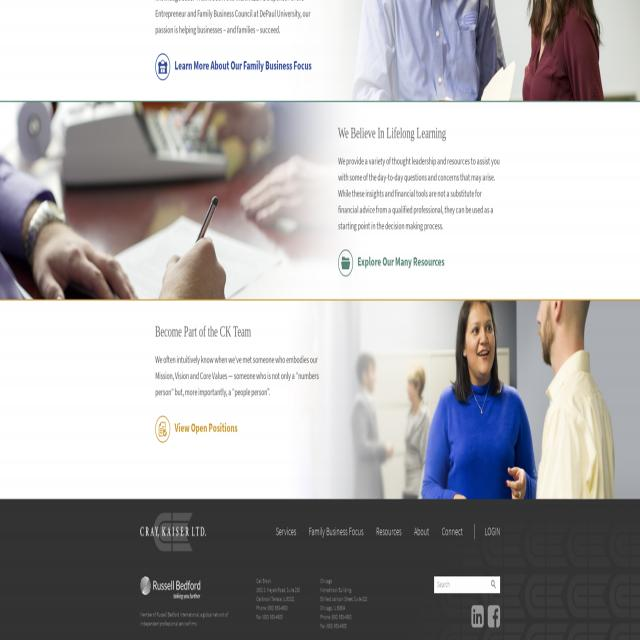button: (140, 513, 206, 551), (140, 576, 200, 600), (155, 416, 170, 443), (155, 53, 170, 80), (338, 250, 353, 276), (487, 606, 500, 628), (471, 607, 484, 628), (492, 580, 498, 589)
field: (434, 576, 500, 593)
